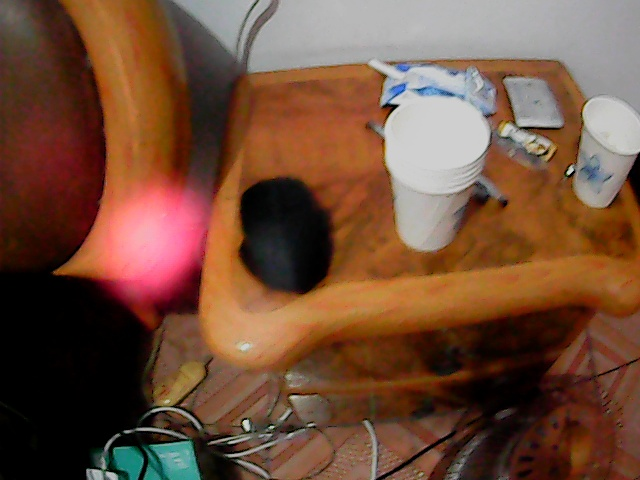cup: (386, 89, 488, 258)
mouse: (233, 173, 335, 296)
